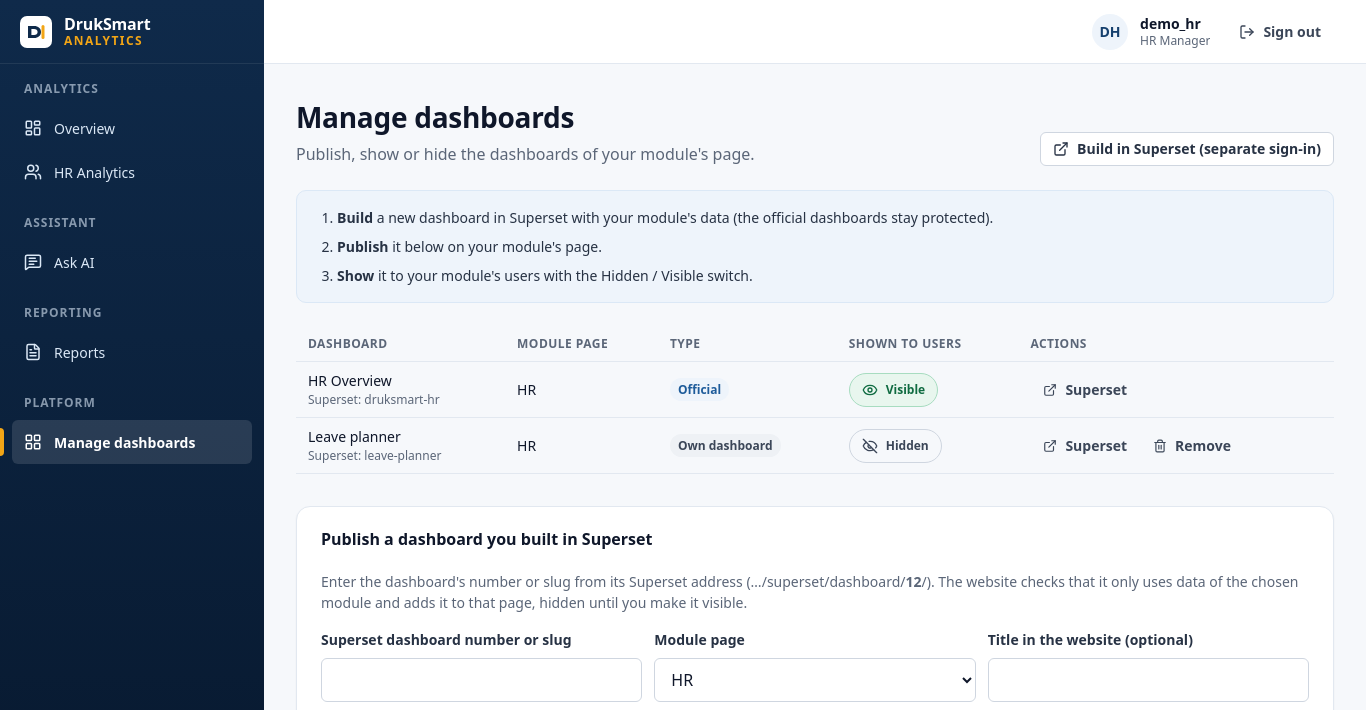
Scenario: Manage dashboards (ADR-044) › toggles a dashboard's visibility through the API
Click the button named "Show Leave planner to HR users" at (895,446), box 849,428 -> 942,462
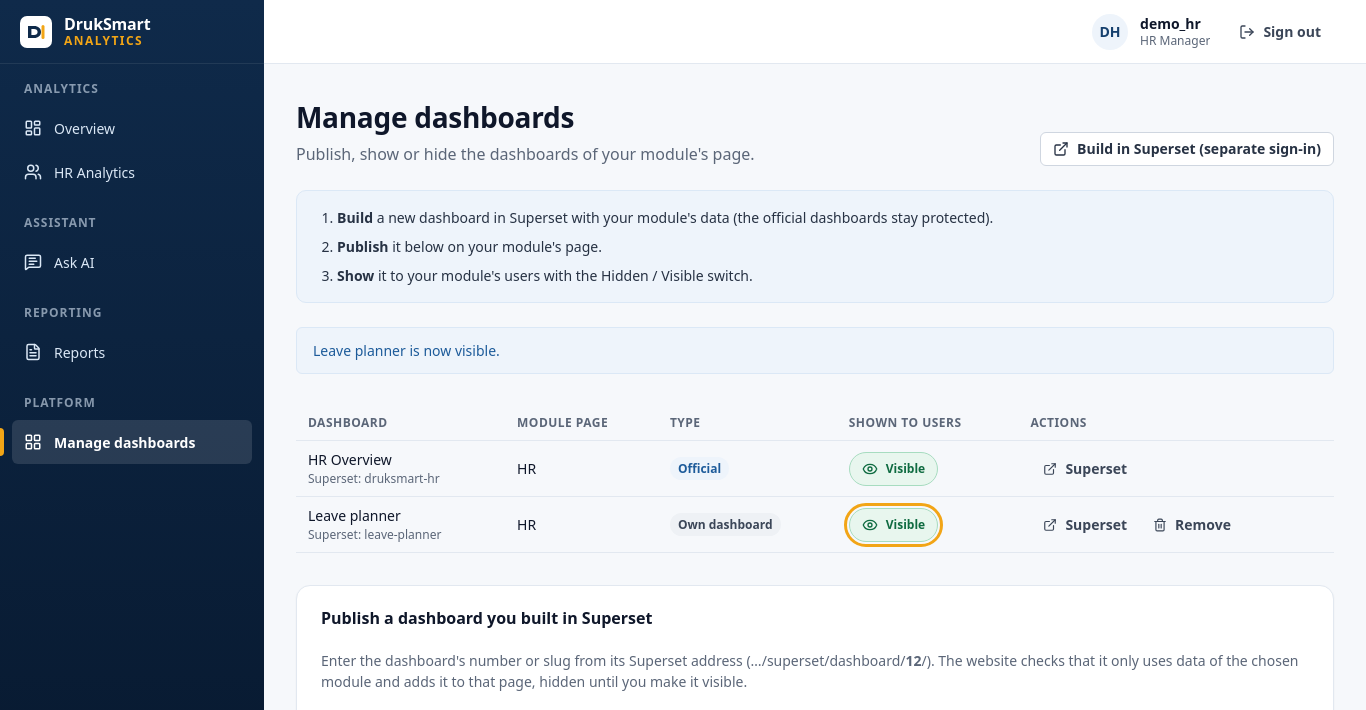
Check: the message reads "Leave planner is now visible.", box 313,341 -> 500,360
